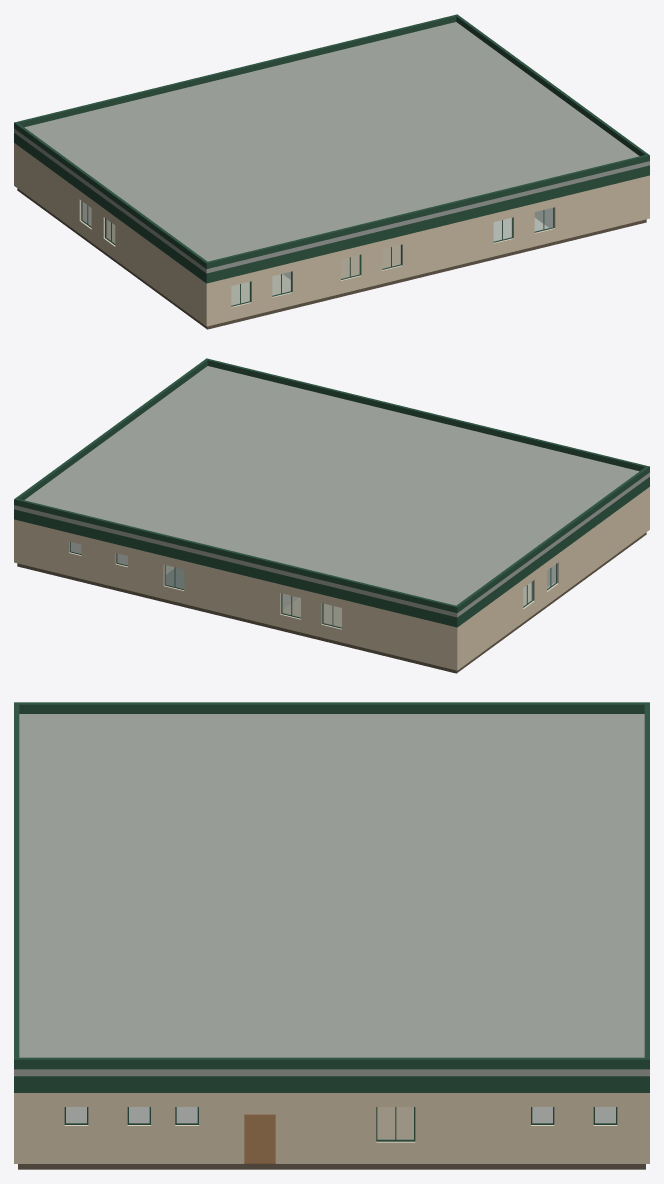
Rendered from building-L2.glb.
3 renders of one model, top to bottom at view 1: azimuth 30°, elevation 25°; view 2: azimuth 150°, elevation 25°; view 3: azimuth 270°, elevation 25°, orthographic. The views are drawn at different scales.
Visible parts, largest first — view 1: ROOF, WALL-L2-000, WALL-L2-024, FASCIA-L2, SLAB-L2, ROOM-L2-LOUNGE, ROOM-L2-READ; view 2: ROOF, WALL-L2-023, WALL-L2-024, FASCIA-L2, SLAB-L2, ROOM-L2-BILLIARD; view 3: ROOF, WALL-L2-038, WALL-L2-037, FASCIA-L2, SLAB-L2, LEAF-D-L2-EXE-1, W-L2-032, ROOM-L2-GAME, LINTEL-D-L2-EXE.
Part boxes in pixels (x1=…): ROOF: x1=14, y1=14, x2=649, y2=273; WALL-L2-000: x1=204, y1=175, x2=649, y2=326; WALL-L2-024: x1=16, y1=144, x2=204, y2=324; FASCIA-L2: x1=14, y1=133, x2=649, y2=283; SLAB-L2: x1=17, y1=188, x2=646, y2=329; ROOM-L2-LOUNGE: x1=341, y1=245, x2=400, y2=278; ROOM-L2-READ: x1=231, y1=274, x2=290, y2=304; ROOF: x1=14, y1=358, x2=649, y2=617; WALL-L2-023: x1=14, y1=519, x2=459, y2=670; WALL-L2-024: x1=459, y1=488, x2=647, y2=668; FASCIA-L2: x1=14, y1=477, x2=649, y2=627; SLAB-L2: x1=17, y1=532, x2=646, y2=673; ROOM-L2-BILLIARD: x1=283, y1=598, x2=341, y2=626; ROOF: x1=14, y1=702, x2=649, y2=1076; WALL-L2-038: x1=275, y1=1093, x2=641, y2=1163; WALL-L2-037: x1=22, y1=1093, x2=244, y2=1163; FASCIA-L2: x1=14, y1=1076, x2=649, y2=1092; SLAB-L2: x1=18, y1=1164, x2=645, y2=1169; LEAF-D-L2-EXE-1: x1=244, y1=1114, x2=275, y2=1163; W-L2-032: x1=377, y1=1107, x2=413, y2=1139; ROOM-L2-GAME: x1=377, y1=1107, x2=413, y2=1138; LINTEL-D-L2-EXE: x1=244, y1=1093, x2=275, y2=1114.
Size of the model in its own units: 32.3 by 4.7 by 24.3.
